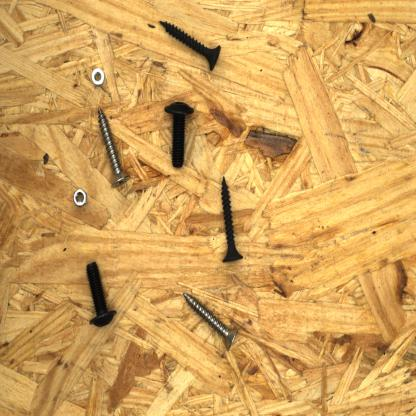screw: (154, 17, 224, 77), (180, 287, 240, 356), (96, 103, 135, 191), (81, 256, 121, 332), (159, 98, 197, 170), (217, 173, 246, 267)
